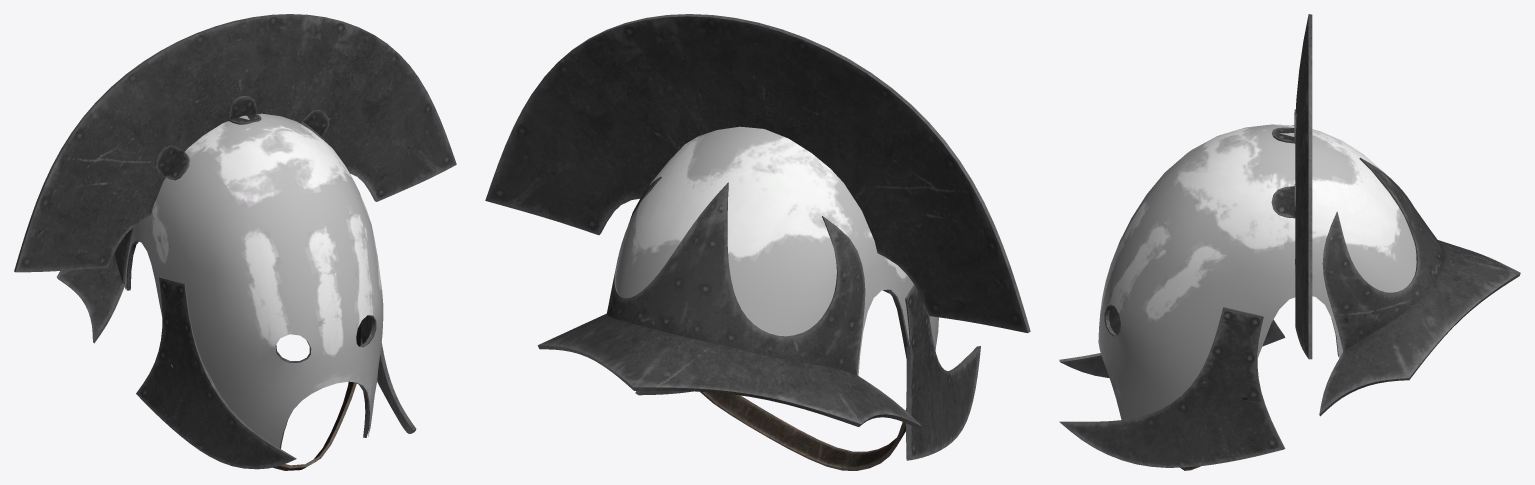
File: sk_uruk_hai_helmet_officer_a1.fbx
3 renders of one model, left to right at view 1: azimuth 30°, elevation 25°; view 2: azimuth 150°, elevation 25°; view 3: azimuth 270°, elevation 25°, orthographic. The views are drawn at different scales.
Visible parts, largest first — view 1: sk_uruk_hai_helmet_officer_a1.0, sk_uruk_hai_helmet_officer_a1.1, sk_uruk_hai_helmet_officer_a1.2; view 2: sk_uruk_hai_helmet_officer_a1.0, sk_uruk_hai_helmet_officer_a1.1, sk_uruk_hai_helmet_officer_a1.2; view 3: sk_uruk_hai_helmet_officer_a1.1, sk_uruk_hai_helmet_officer_a1.0.
Boxes of the visible parts, bbox=[...] form: sk_uruk_hai_helmet_officer_a1.0: bbox=[14, 14, 456, 469]; sk_uruk_hai_helmet_officer_a1.1: bbox=[124, 113, 383, 447]; sk_uruk_hai_helmet_officer_a1.2: bbox=[169, 324, 362, 470]; sk_uruk_hai_helmet_officer_a1.0: bbox=[485, 14, 1030, 460]; sk_uruk_hai_helmet_officer_a1.1: bbox=[615, 126, 938, 375]; sk_uruk_hai_helmet_officer_a1.2: bbox=[700, 385, 920, 470]; sk_uruk_hai_helmet_officer_a1.1: bbox=[1098, 124, 1416, 419]; sk_uruk_hai_helmet_officer_a1.0: bbox=[1059, 14, 1520, 467].
Bounding box in the file's own units: 0.4273 × 0.3704 × 0.375.
3 materials, 3 textured.
